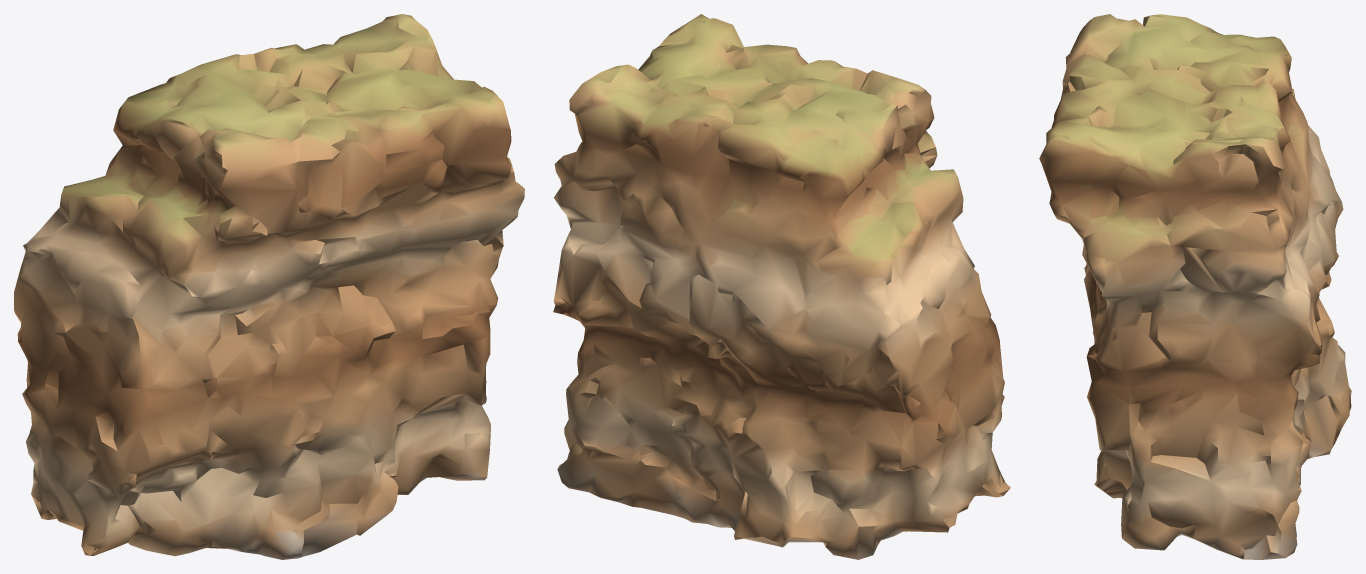
The model's file is shore_cliff_c_lod1.glb.
3 views of the same model, side by side, from view 1: azimuth 30°, elevation 25°; view 2: azimuth 150°, elevation 25°; view 3: azimuth 270°, elevation 25° (orthographic). The views are drawn at different scales.
Visible parts, largest first — view 1: shore_cliff_c.001; view 2: shore_cliff_c.001; view 3: shore_cliff_c.001.
Boxes of the visible parts, box(x1,y1,x2,y2) form: shore_cliff_c.001: box(14, 14, 524, 559); shore_cliff_c.001: box(553, 14, 1010, 559); shore_cliff_c.001: box(1039, 14, 1351, 559).
Bounding box in the file's own units: 30 × 30.6 × 20.19.
